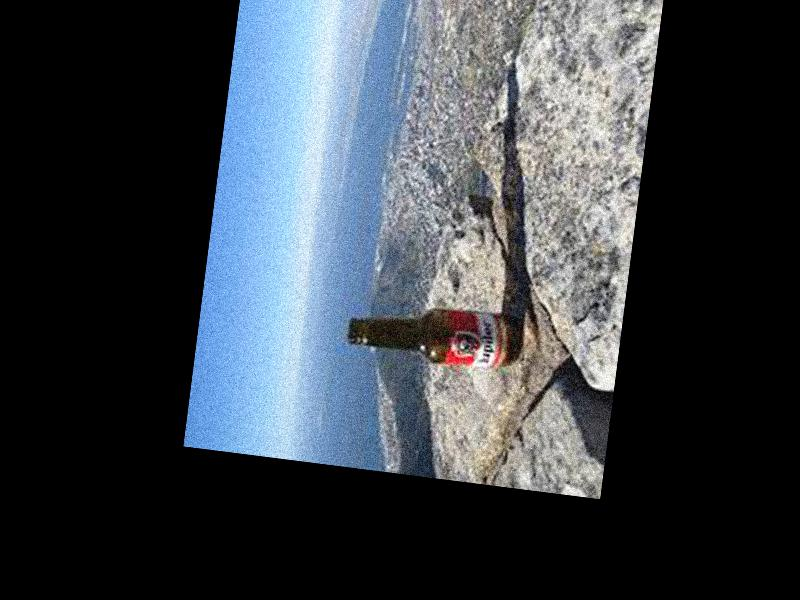Beer: (344, 295, 518, 374)
